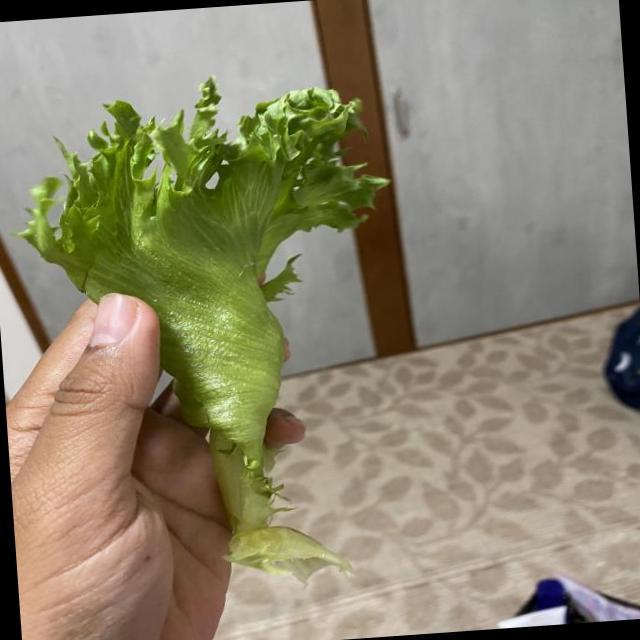Lettuce-Ready-to-Harvest: (20, 78, 386, 580)
